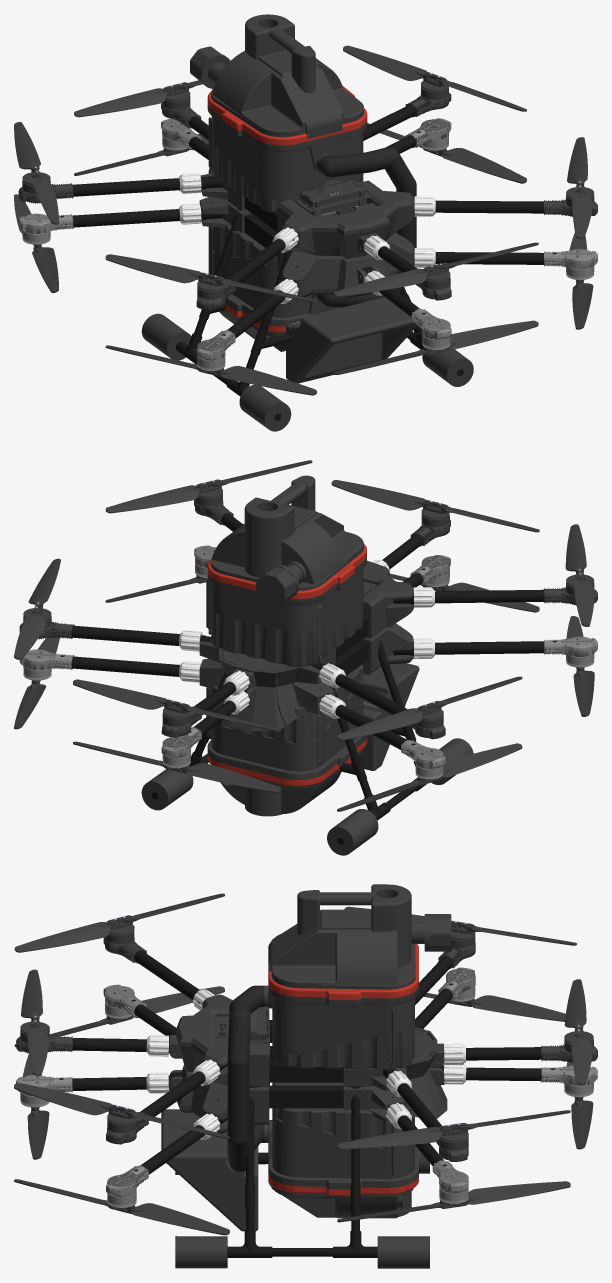
3 renders of one model, top to bottom at view 1: azimuth 30°, elevation 25°; view 2: azimuth 150°, elevation 25°; view 3: azimuth 270°, elevation 25°, orthographic. The views are drawn at different scales.
Visible parts, largest first — view 1: anim_md_12_md_canister_top, object 1, anim_md_17_md_arms, anim_md_15_md_nozzle, anim_md_16_md_gear, object 2, object 5, anim_md_13_md_canister_low, anim_md_14_md_duct, object 3, anim_md_4_md_propT5, anim_md_1_md_propT2 (+11 smaller); view 2: anim_md_12_md_canister_top, object 1, anim_md_13_md_canister_low, anim_md_17_md_arms, anim_md_16_md_gear, object 5, object 2, object 3, anim_md_15_md_nozzle, anim_md_2_md_propT3, anim_md_5_md_propT6, anim_md_0_md_propT1 (+10 smaller); view 3: anim_md_12_md_canister_top, anim_md_13_md_canister_low, object 1, anim_md_17_md_arms, anim_md_16_md_gear, object 5, object 2, anim_md_15_md_nozzle, anim_md_14_md_duct, object 3, object 4, anim_md_1_md_propT2 (+11 smaller).
Part boxes in pixels (x1,y1,x2,y2): anim_md_12_md_canister_top: (190, 14, 367, 212); object 1: (199, 173, 414, 298); anim_md_17_md_arms: (59, 104, 558, 338); anim_md_15_md_nozzle: (286, 297, 417, 383); anim_md_16_md_gear: (141, 208, 473, 431); object 2: (18, 80, 597, 310); object 5: (18, 118, 597, 370); anim_md_13_md_canister_low: (212, 224, 340, 351); anim_md_14_md_duct: (292, 147, 416, 323); object 3: (178, 172, 435, 303); anim_md_4_md_propT5: (105, 254, 316, 302); anim_md_1_md_propT2: (343, 45, 526, 111); anim_md_12_md_canister_top: (207, 475, 366, 666); object 1: (199, 560, 413, 764); anim_md_13_md_canister_low: (207, 664, 367, 816); anim_md_17_md_arms: (57, 513, 558, 749); anim_md_16_md_gear: (141, 633, 473, 855); object 5: (19, 545, 597, 779); object 2: (19, 488, 597, 739); object 3: (179, 559, 434, 718); anim_md_15_md_nozzle: (350, 663, 419, 770); anim_md_2_md_propT3: (331, 480, 539, 532); anim_md_5_md_propT6: (105, 460, 312, 513); anim_md_0_md_propT1: (73, 679, 280, 731); anim_md_12_md_canister_top: (264, 884, 451, 1069); anim_md_13_md_canister_low: (264, 1082, 418, 1218); object 1: (168, 994, 447, 1176); anim_md_17_md_arms: (57, 950, 554, 1174); anim_md_16_md_gear: (175, 1086, 429, 1268); object 5: (16, 967, 597, 1207); object 2: (16, 924, 597, 1161); anim_md_15_md_nozzle: (161, 1109, 258, 1231); anim_md_14_md_duct: (227, 985, 264, 1172); object 3: (146, 989, 466, 1139); object 4: (269, 1020, 366, 1108); anim_md_1_md_propT2: (337, 1110, 570, 1149).
Size of the model in its own units: 1.37 by 0.8489 by 1.38.
